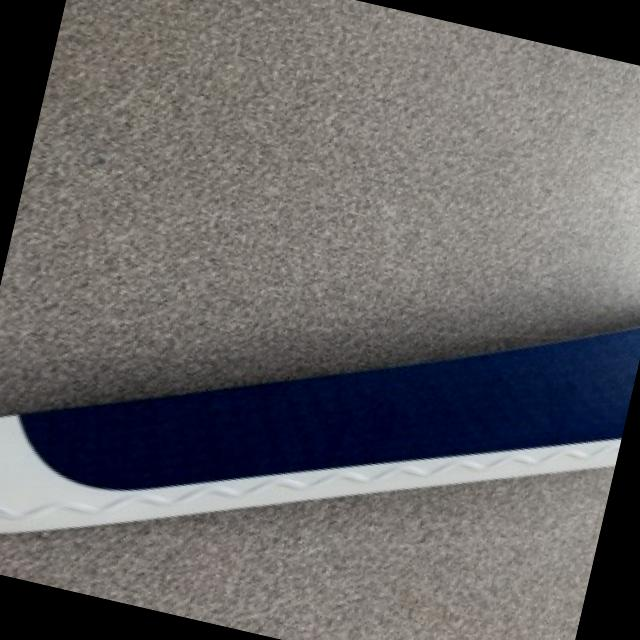healthy: (0, 327, 640, 529), (0, 467, 615, 640)
